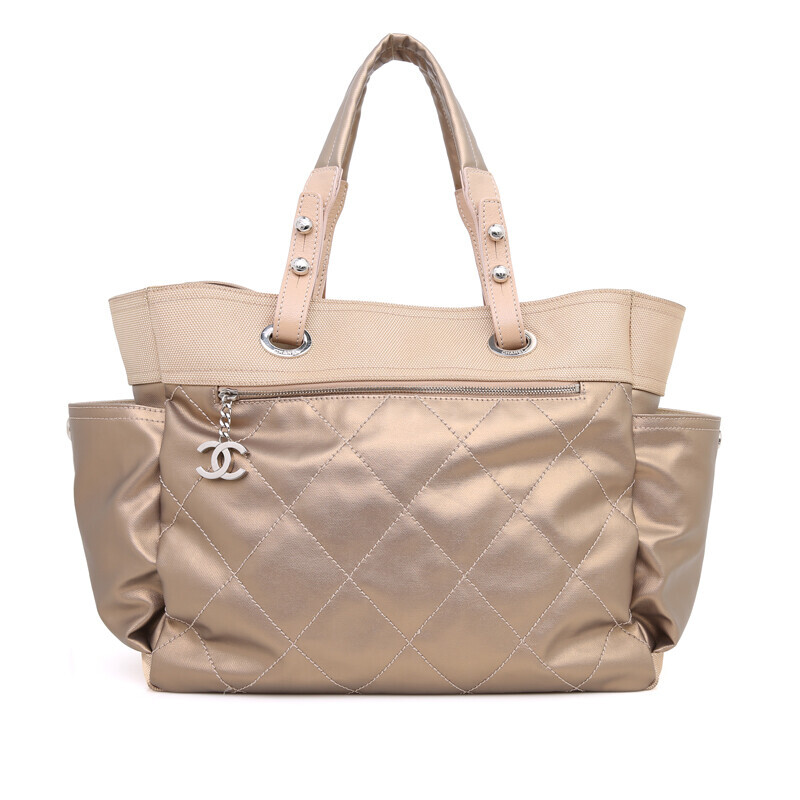channel: (31, 259, 743, 710), (175, 427, 271, 500)
